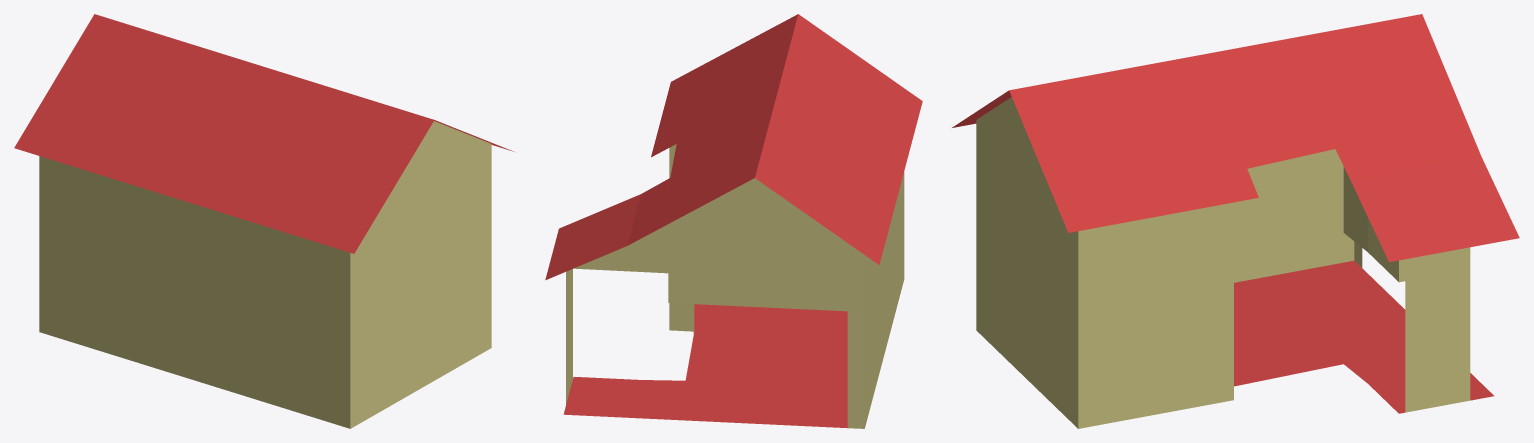
3 renders of one model, left to right at view 1: azimuth 30°, elevation 25°; view 2: azimuth 150°, elevation 25°; view 3: azimuth 270°, elevation 25°, orthographic. The views are drawn at different scales.
Bounding box in the file's own units: 17.57 × 22.26 × 12.61.
